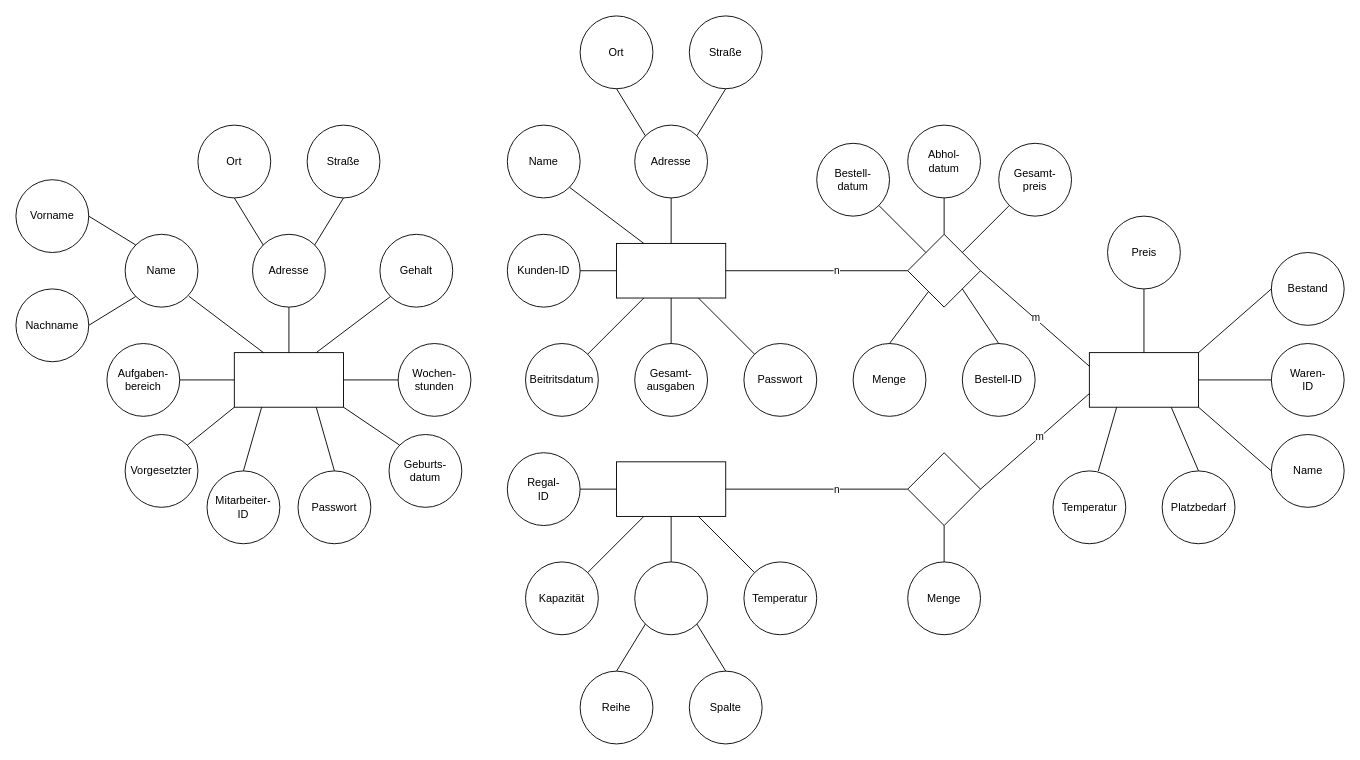
This 1360x760 diagram has some shape labels left out. Here are the shapes that lost their labels. From the top down, the box of each, then its label:
(616, 243, 726, 298): Großkunde
(907, 233, 981, 307): bestellt
(233, 352, 344, 407): Mitarbeiter
(1088, 352, 1199, 407): Ware
(616, 461, 726, 516): Regal
(907, 452, 981, 526): enthält
(634, 561, 708, 635): Position
